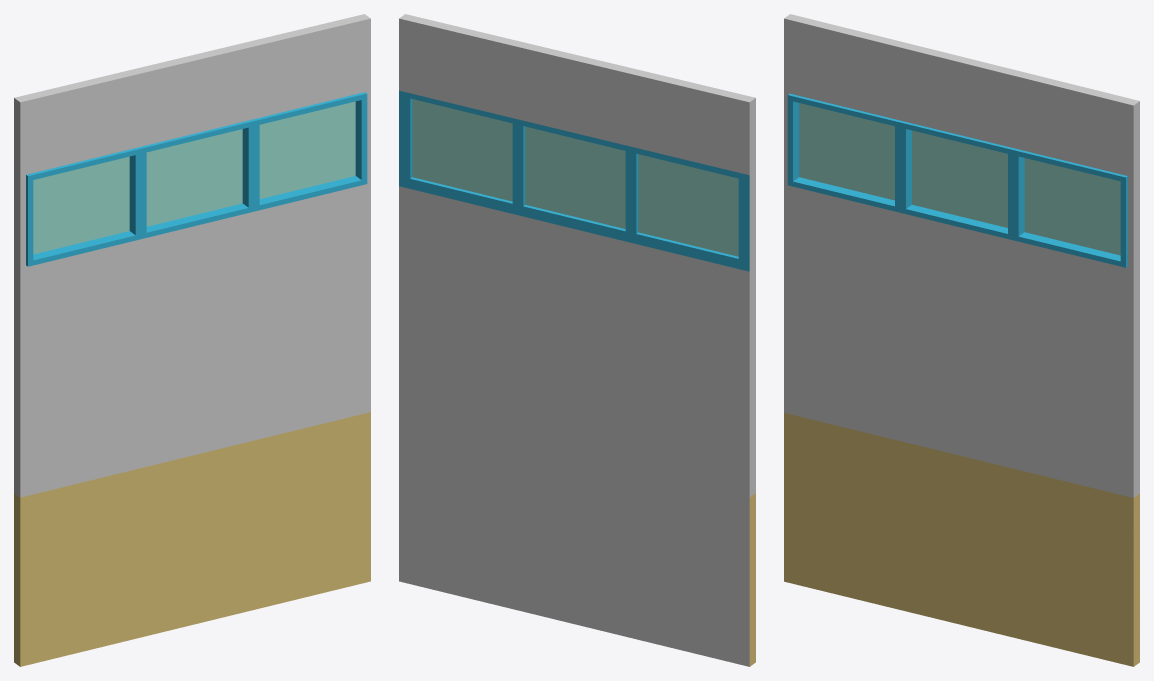
Rendered from Hall-wall-window.fbx.
3 views of the same model, side by side, from view 1: azimuth 30°, elevation 25°; view 2: azimuth 150°, elevation 25°; view 3: azimuth 330°, elevation 25° (orthographic).
Visible parts, largest first — view 1: sporthall_wall_window, windiow_glass; view 2: sporthall_wall_window, windiow_glass; view 3: sporthall_wall_window, windiow_glass.
Boxes of the visible parts, bbox=[...] form: sporthall_wall_window: bbox=[14, 14, 370, 666]; windiow_glass: bbox=[33, 101, 355, 254]; sporthall_wall_window: bbox=[399, 14, 755, 666]; windiow_glass: bbox=[412, 99, 738, 256]; sporthall_wall_window: bbox=[784, 14, 1139, 666]; windiow_glass: bbox=[799, 103, 1120, 255].
Bounding box in the file's own units: 6.5 × 0.2655 × 10.
